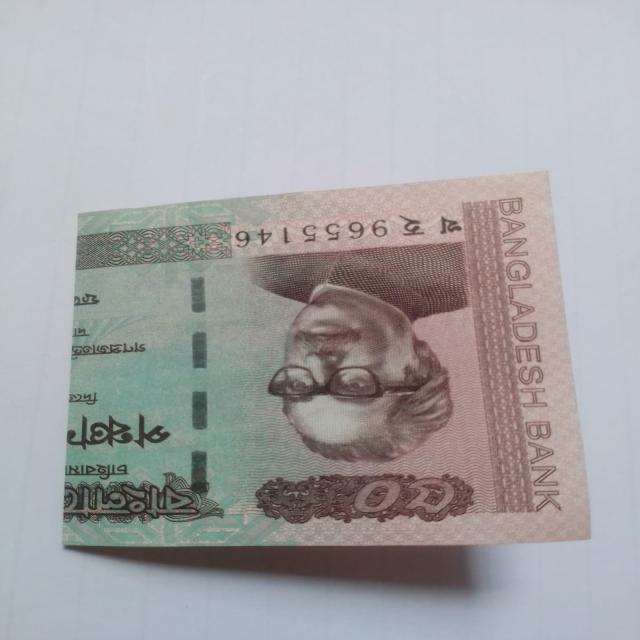Taka: (50, 178, 590, 561)
